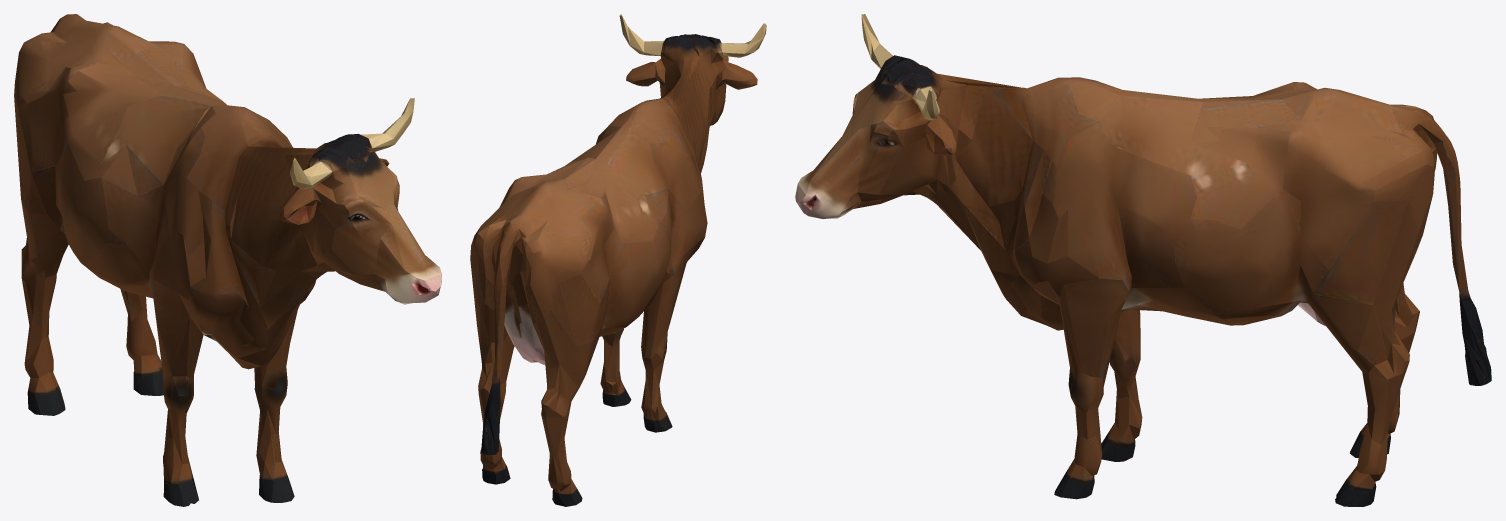
The model's file is world-cow.glb.
3 views of the same model, side by side, from view 1: azimuth 30°, elevation 25°; view 2: azimuth 150°, elevation 25°; view 3: azimuth 270°, elevation 25° (orthographic). The views are drawn at different scales.
Bounding box in the file's own units: 0.6115 × 1.32 × 1.9.
1 material, 1 textured.
